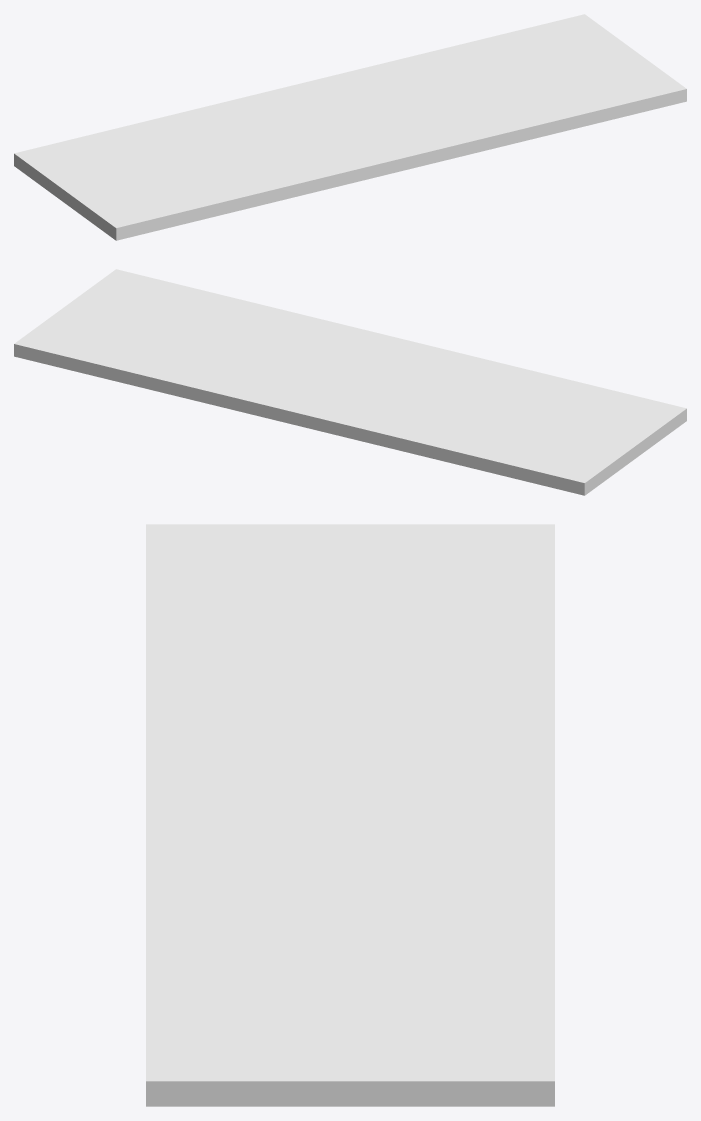
File: wood.glb
The picture shows the model from 3 angles, top to bottom: view 1: azimuth 30°, elevation 25°; view 2: azimuth 150°, elevation 25°; view 3: azimuth 270°, elevation 25°; orthographic projection. The views are drawn at different scales.
Parts seen in each view (by area): view 1: wood1; view 2: wood1; view 3: wood1.
Boxes of the visible parts, box(x1,y1,x2,y2) form: wood1: box(14, 14, 686, 240); wood1: box(14, 269, 686, 495); wood1: box(146, 524, 554, 1106).
Size of the model in its own units: 1.78 by 0.0375 by 0.5513.
Materials: 1 (1 with a texture image).
